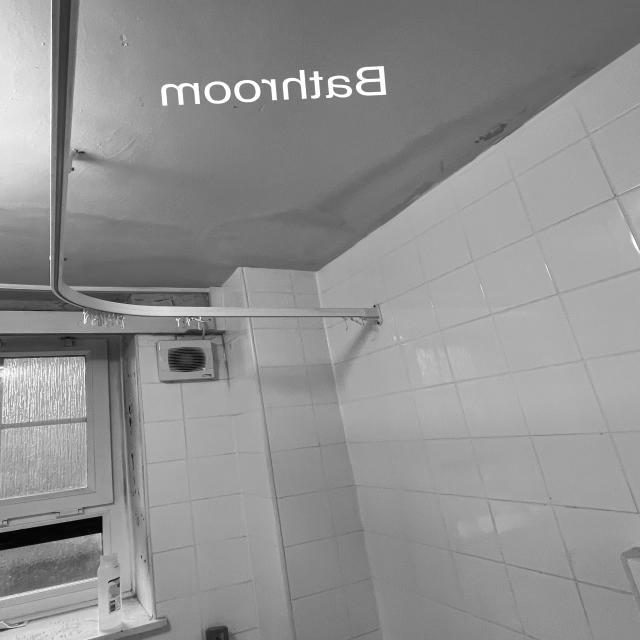stain marks: (0, 203, 354, 270), (435, 75, 570, 151), (349, 138, 439, 222), (286, 169, 350, 209)
